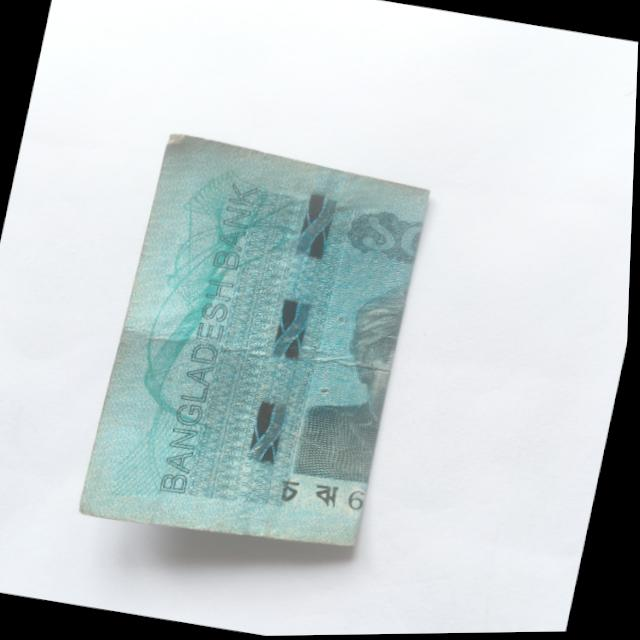Taka: (75, 116, 450, 560)
